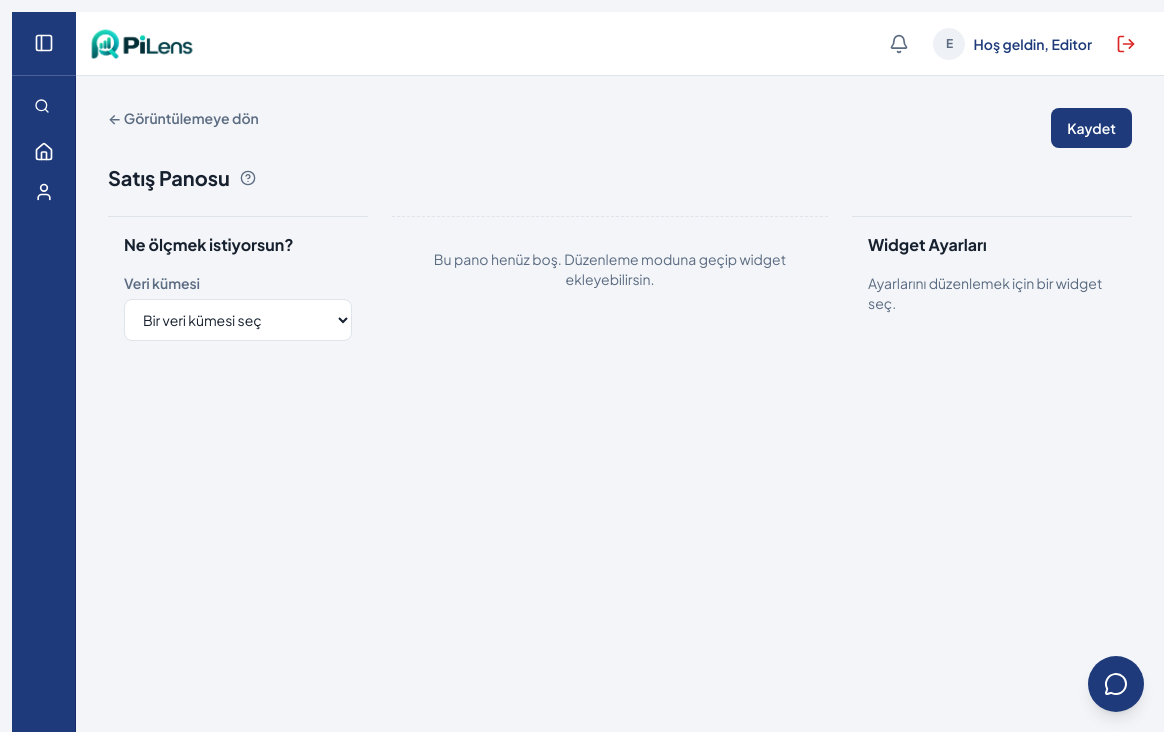
Test: DashboardEditPage › kaydet basarili olunca basari toast'i gosterir
What coordinates should you click on to do the following:
click the button "Kaydet"
I would click on:
 (1092, 128)
Its box is [1051,108,1132,148].
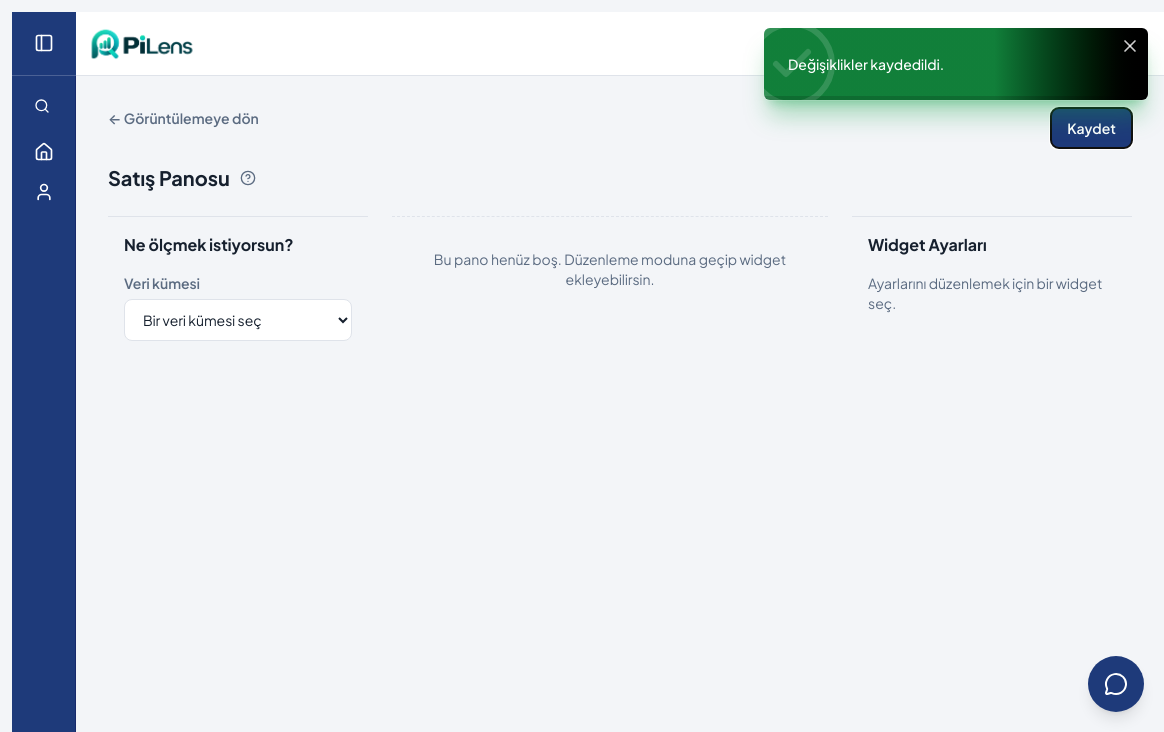
expect the text "Değişiklikler kaydedildi." is shown: met, box [788,55,944,73]
